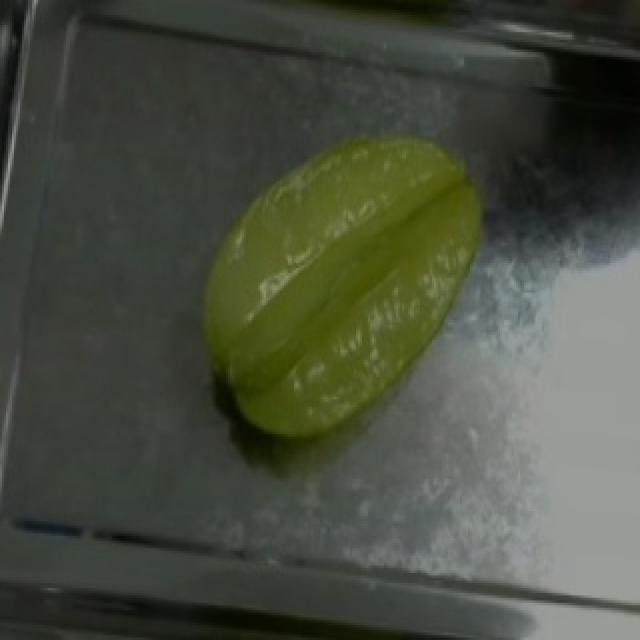fruit: (168, 102, 520, 466)
